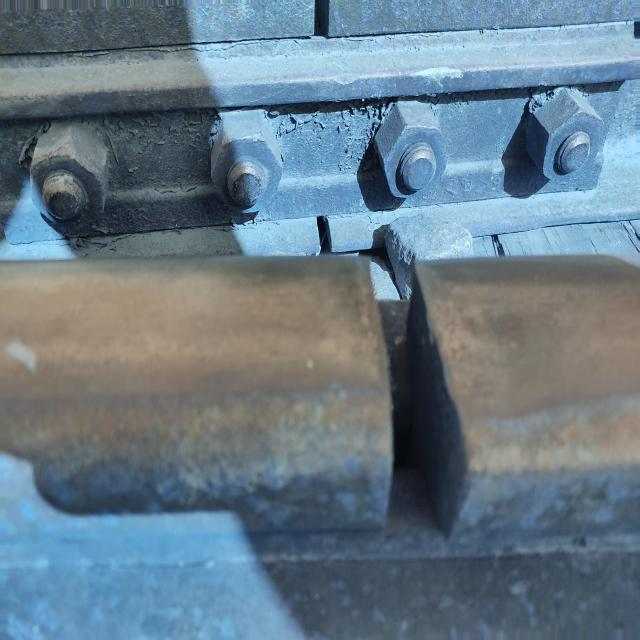Good Joint: (0, 17, 632, 243)
